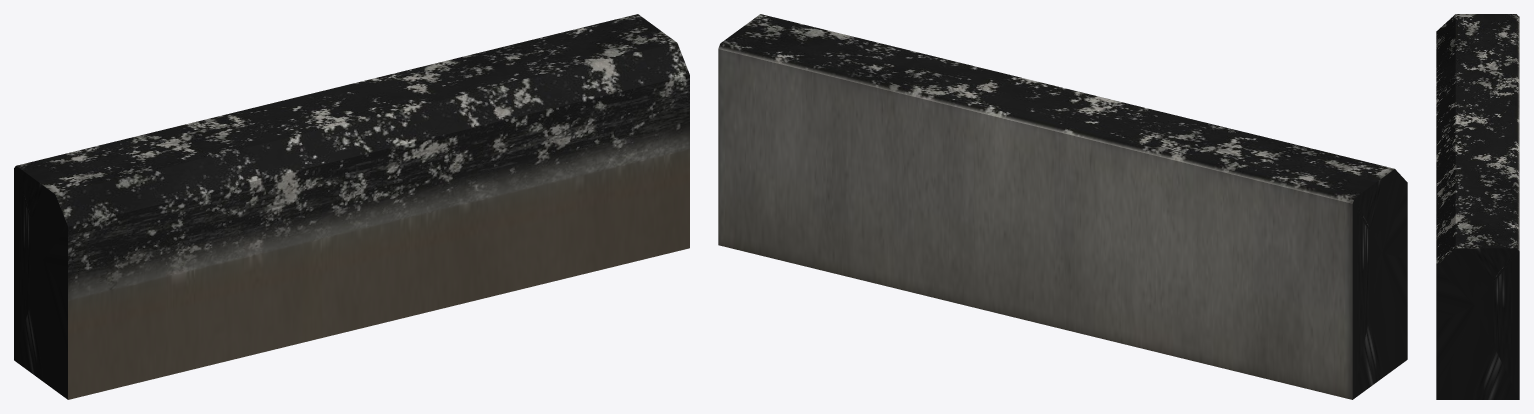
The model's file is curb_straight_black_lod1_web.glb.
3 views of the same model, side by side, from view 1: azimuth 30°, elevation 25°; view 2: azimuth 150°, elevation 25°; view 3: azimuth 270°, elevation 25° (orthographic). The views are drawn at different scales.
Parts seen in each view (by area): view 1: curb_straight_black_Mesh; view 2: curb_straight_black_Mesh; view 3: curb_straight_black_Mesh.
Part boxes in pixels (x1,y1,x2,y2): curb_straight_black_Mesh: [14, 14, 689, 399]; curb_straight_black_Mesh: [718, 14, 1407, 399]; curb_straight_black_Mesh: [1436, 14, 1519, 399].
Bounding box in the file's own units: 0.995 × 0.3 × 0.15.
1 material, 1 textured.
